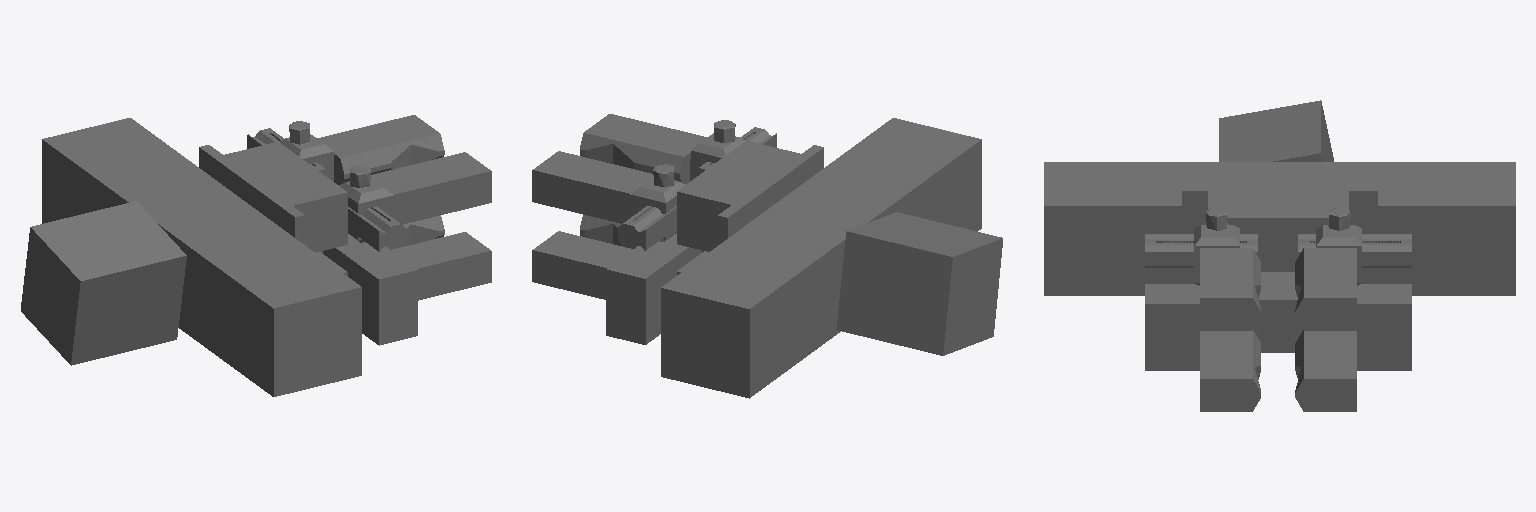
robot.urdf — ECL_robot1_with_track:
<?xml version="1.0" ?>
<!-- =================================================================================== -->
<!-- |    This document was autogenerated by xacro from abb_irb4600_40_255.xacro       | -->
<!-- |    EDITING THIS FILE BY HAND IS NOT RECOMMENDED                                 | -->
<!-- =================================================================================== -->
<robot name="ECL_robot1_with_track" xmlns:xacro="http://wiki.ros.org/xacro">
  <!-- Conversion were obtained from http://www.e-paint.co.uk/Lab_values.asp
       unless otherwise stated. -->
  <!-- link list -->
  <link name="base_link">
    <inertial>
      <origin xyz="0.0 0.0 0.0"/>
      <mass value="120.00000"/>
      <inertia ixx="-4.98000" ixy="-0.00000" ixz="2.70000" iyy="-5.95200" iyz="-0.00000" izz="0.82800"/>
    </inertial>
    <visual>
      <geometry>
        <mesh filename="package://abb_irb4600_40_255/meshes/visual/base_link.stl"/>
      </geometry>
      <material name="">
        <color rgba="0.5 0.47 0.38 1.0"/>
      </material>
    </visual>
    <collision>
      <geometry>
        <mesh filename="package://abb_irb4600_40_255/meshes/collision/base_link.stl"/>
      </geometry>
    </collision>
  </link>
  <link name="link_1">
    <inertial>
      <origin xyz="0.18000 0.00000 0.50000"/>
      <mass value="120.00000"/>
      <inertia ixx="-4.98000" ixy="-0.00000" ixz="2.70000" iyy="-5.95200" iyz="-0.00000" izz="0.82800"/>
    </inertial>
    <visual>
      <geometry>
        <mesh filename="package://abb_irb4600_40_255/meshes/visual/link_1.stl"/>
      </geometry>
      <material name="">
        <!-- <color rgba="0.7725490 0.7803922 0.7686275 1"/> -->
        <color rgba="0.964705882353 0.470588235294 0.156862745098 1.0"/>
      </material>
    </visual>
    <collision>
      <geometry>
        <mesh filename="package://abb_irb4600_40_255/meshes/collision/link_1.stl"/>
      </geometry>
    </collision>
  </link>
  <link name="link_2">
    <inertial>
      <origin xyz="0.94000 0.08000 -0.34000"/>
      <mass value="120.00000"/>
      <inertia ixx="-2.96000" ixy="2.25600" ixz="-9.58800" iyy="-18.72601" iyz="-0.81600" izz="-14.95000"/>
    </inertial>
    <visual>
      <geometry>
        <mesh filename="package://abb_irb4600_40_255/meshes/visual/link_2.stl"/>
      </geometry>
      <material name="">
        <!-- <color rgba="0.7725490 0.7803922 0.7686275 1"/> -->
        <color rgba="0.964705882353 0.470588235294 0.156862745098 1.0"/>
      </material>
    </visual>
    <collision>
      <geometry>
        <mesh filename="package://abb_irb4600_40_255/meshes/collision/link_2.stl"/>
      </geometry>
    </collision>
  </link>
  <link name="link_3">
    <inertial>
      <origin xyz="0.07000 -0.26600 0.08800"/>
      <mass value="120.00000"/>
      <inertia ixx="1.34500" ixy="-0.55860" ixz="0.18480" iyy="4.65068" iyz="-0.70224" izz="2.76032"/>
    </inertial>
    <visual>
      <geometry>
        <mesh filename="package://abb_irb4600_40_255/meshes/visual/link_3.stl"/>
      </geometry>
      <material name="">
        <!-- <color rgba="0.7725490 0.7803922 0.7686275 1"/> -->
        <color rgba="0.964705882353 0.470588235294 0.156862745098 1.0"/>
      </material>
    </visual>
    <collision>
      <geometry>
        <mesh filename="package://abb_irb4600_40_255/meshes/collision/link_3.stl"/>
      </geometry>
    </collision>
  </link>
  <link name="link_4">
    <inertial>
      <origin xyz="0.00000 0.00000 1.00000"/>
      <mass value="40.00000"/>
      <inertia ixx="-8.00000" ixy="-0.00000" ixz="-0.00000" iyy="-8.00000" iyz="-0.00000" izz="0.48200"/>
    </inertial>
    <visual>
      <geometry>
        <mesh filename="package://abb_irb4600_40_255/meshes/visual/link_4.stl"/>
      </geometry>
      <material name="">
        <!-- <color rgba="0.7725490 0.7803922 0.7686275 1"/> -->
        <color rgba="0.964705882353 0.470588235294 0.156862745098 1.0"/>
      </material>
    </visual>
    <collision>
      <geometry>
        <mesh filename="package://abb_irb4600_40_255/meshes/collision/link_4.stl"/>
      </geometry>
    </collision>
  </link>
  <link name="link_5">
    <inertial>
      <origin xyz="0.14000 0.00000 0.00000"/>
      <mass value="10.00000"/>
      <inertia ixx="0.04000" ixy="-0.00000" ixz="-0.00000" iyy="-0.00900" iyz="-0.00000" izz="-0.00400"/>
    </inertial>
    <visual>
      <geometry>
        <mesh filename="package://abb_irb4600_40_255/meshes/visual/link_5.stl"/>
      </geometry>
      <material name="">
        <!-- <color rgba="0.7725490 0.7803922 0.7686275 1"/> -->
        <color rgba="0.964705882353 0.470588235294 0.156862745098 1.0"/>
      </material>
    </visual>
    <collision>
      <geometry>
        <mesh filename="package://abb_irb4600_40_255/meshes/collision/link_5.stl"/>
      </geometry>
    </collision>
  </link>
  <link name="link_6">
    <inertial>
      <origin xyz="0.08100 -0.09100 0.33200"/>
      <mass value="5.00000"/>
      <inertia ixx="-0.29652" ixy="-0.03686" ixz="0.09396" iyy="-0.28792" iyz="-0.10556" izz="-0.04621"/>
    </inertial>
    <visual>
      <geometry>
        <mesh filename="package://abb_irb4600_40_255/meshes/visual/link_6.stl"/>
      </geometry>
      <material name="">
        <!-- <color rgba="0.1882353 0.1960784 0.2039216 1"/> -->
        <color rgba="0.505882352941 0.470588235294 0.388235294118 1.0"/>
      </material>
    </visual>
    <collision>
      <geometry>
        <mesh filename="package://abb_irb4600_40_255/meshes/collision/link_6.stl"/>
      </geometry>
    </collision>
  </link>
  <link name="tool0"/>
  <!-- end of link list -->
  <!-- joint list -->
  <joint name="joint_1" type="revolute">
    <parent link="base_link"/>
    <child link="link_1"/>
    <origin rpy="0 0 0 " xyz="0 0 0"/>
    <axis xyz="0 0 1"/>
    <limit effort="100000" lower="-3.14159" upper="3.14159" velocity="2.618"/>
    <dynamics damping="0.2" friction="0"/>
  </joint>
  <joint name="joint_2" type="revolute">
    <parent link="link_1"/>
    <child link="link_2"/>
    <origin rpy="0 -0 0 " xyz="0.175 0 0.495"/>
    <axis xyz="0 1 0"/>
    <limit effort="100000" lower="-1.5708" upper="2.61799" velocity="2.618"/>
    <dynamics damping="0.2" friction="0"/>
  </joint>
  <joint name="joint_3" type="revolute">
    <parent link="link_2"/>
    <child link="link_3"/>
    <origin rpy="0 -0 0 " xyz="0 0 1.095"/>
    <axis xyz="0 1 0"/>
    <limit effort="100000" lower="-3.14159" upper="1.309" velocity="2.618"/>
    <dynamics damping="0.2" friction="0"/>
  </joint>
  <joint name="joint_4" type="revolute">
    <parent link="link_3"/>
    <child link="link_4"/>
    <origin rpy="0 -0 0 " xyz="0.332 0 0.175"/>
    <axis xyz="1 0 0"/>
    <limit effort="10000" lower="-6.98132" upper="6.98132" velocity="6.2832"/>
    <dynamics damping="0.2" friction="0"/>
  </joint>
  <joint name="joint_5" type="revolute">
    <parent link="link_4"/>
    <child link="link_5"/>
    <origin rpy="0 -0 0 " xyz="0.939 0 0"/>
    <axis xyz="0 1 0"/>
    <limit effort="100000" lower="-2.18166" upper="2.0944" velocity="6.2832"/>
    <dynamics damping="0.2" friction="0"/>
  </joint>
  <joint name="joint_6" type="revolute">
    <parent link="link_5"/>
    <child link="link_6"/>
    <origin rpy="0 1.57076 0 " xyz="0.135 0 0"/>
    <axis xyz="0 0 1"/>
    <limit effort="100000" lower="-6.98132" upper="6.98132" velocity="7.854"/>
    <dynamics damping="0.2" friction="0"/>
  </joint>
  <joint name="joint_6-tool0" type="fixed">
    <parent link="link_6"/>
    <child link="tool0"/>
    <origin rpy="0 0 0" xyz="0 0 0"/>
  </joint>
  <!-- end of joint list -->
  <!-- ROS base_link to ABB World Coordinates transform -->
  <link name="base"/>
  <joint name="base_link-base" type="fixed">
    <origin rpy="0 0 0" xyz="0 0 0"/>
    <parent link="base_link"/>
    <child link="base"/>
  </joint>

   <!-- ! end effector-->
   <link name="eef_base_link">
     <visual>
       <origin rpy="0 0 0" xyz="0.0 0.0 0.0"/>
       <geometry>
         <mesh filename="../meshes/visual/princeton_gripper_visual_m.stl"/>
         <!-- <mesh filename="../meshes/collision/princeton_gripper_collision_m.stl"/> -->
       </geometry>
       <material name="grey">
         <color rgba="0.5 0.5 0.5 1.0"/>
       </material>
     </visual>
     <collision>
       <origin rpy="0 0 0" xyz="0.0 0.0 0.0"/>
       <geometry>
         <mesh filename="../meshes/collision/princeton_gripper_collision_m.stl"/>
       </geometry>
       <material name="red">
         <color rgba="1 0 0 1"/>
       </material>
     </collision>
   </link>

  <joint name="eef_base_to_tcp" type="fixed">
    <origin rpy="0 0 0" xyz="0.0 0.0 0.475"/>
    <parent link="eef_base_link"/>
    <child link="eef_tcp_frame"/>
  </joint>

   <link name="eef_tcp_frame"/>

  <!-- ! linear axis-->
  <link name="linear_axis_base_link">
    <visual>
      <geometry>
        <mesh filename="../meshes/visual/ecl_track_rail_1_visual_m.stl"/>
      </geometry>
      <material name="">
        <color rgba="0.5 0.5 0.5 1.0"/>
      </material>
    </visual>
    <collision>
      <geometry>
        <mesh filename="../meshes/collision/ecl_track_rail_1_collision_m.stl"/>
      </geometry>
      <material name="">
        <color rgba="0.5 0.5 0.5 1.0"/>
      </material>
    </collision>
  </link>
  <link name="linear_axis_zero"/>
  <link name="linear_axis_carriage">
    <visual>
      <geometry>
        <mesh filename="../meshes/visual/ecl_track_carriage_1_visual_m.stl"/>
      </geometry>
      <material name="">
        <color rgba="0.15 0.415 0.165 1.0"/>
      </material>
    </visual>
    <collision>
      <geometry>
        <mesh filename="../meshes/collision/ecl_track_carriage_1_collision_m.stl"/>
      </geometry>
      <material name="">
        <color rgba="0.15 0.415 0.165 1.0"/>
      </material>
    </collision>
  </link>
  <link name="linear_axis_robot_mount"/>
  <!--	End of link list-->

  <!-- Joint list -->
  <joint name="linear_axis_joint_1" type="fixed">
    <parent link="linear_axis_base_link"/>
    <child link="linear_axis_zero"/>
    <origin rpy="0 0 0" xyz="0 0 0"/>
  </joint>
  <joint name="linear_axis_actuation_joint" type="prismatic">
    <parent link="linear_axis_zero"/>
    <child link="linear_axis_carriage"/>
    <origin rpy="0 0 0" xyz="0 0 0"/>
    <axis xyz="0 -1 0"/>
    <limit effort="1" lower="0" upper="5.4" velocity="1"/>
  </joint>
  <joint name="linear_axis_joint_3" type="fixed">
    <parent link="linear_axis_carriage"/>
    <child link="linear_axis_robot_mount"/>
    <origin rpy="0 0 0" xyz="0 0 0"/>
  </joint>
  <!-- End of joint list -->

  <!--base_link-->
  <!--Link list-->
  <link name="world_link"/>

  <!--bind the rail to word_frame, can be disabled if using modile platform-->
  <joint name="linear_axis_to_base_link" type="fixed">
    <!-- pi/2 = 1.57079632679 -->
    <origin rpy="0 0 0" xyz="0 0 0"/>
    <parent link="world_link"/>
    <!--<child link="robot_base_link"/>-->
    <child link="linear_axis_base_link"/>
  </joint>

  <!-- -1.57079632679 -->
  <joint name="robot_to_linear_axis" type="fixed">
    <origin rpy="0 0 0" xyz="0 0 0"/>
    <parent link="linear_axis_robot_mount"/>
    <child link="base_link"/>
  </joint>

   <joint name="ee_to_robot" type="fixed">
     <parent link="tool0"/>
     <child link="eef_base_link"/>
     <origin rpy="0 0 0" xyz="0 0 0"/>
   </joint>

</robot>

--- Render facts (derived) ---
Views: 3 orthographic renders of the robot side by side, from view 1: azimuth 30°, elevation 25°; view 2: azimuth 150°, elevation 25°; view 3: azimuth 270°, elevation 25°.
Robot: ECL_robot1_with_track — 16 links, 15 joints (6 revolute, 1 prismatic, 8 fixed); root link world_link; default pose: every joint at zero.
Visible links, largest first — view 1: eef_base_link; view 2: eef_base_link; view 3: eef_base_link.
Link boxes in pixels (x1,y1,x2,y2): eef_base_link: [21, 115, 491, 396]; eef_base_link: [532, 114, 1002, 398]; eef_base_link: [1044, 100, 1515, 411].
Size in the robot's own frame: 0.4005 by 0.4 by 0.1405 metres.
Meshes: 10 distinct files referenced, 1 mesh visuals loaded (1 binary STL); not drawn: 9 (reference not matched to a file when rendering).